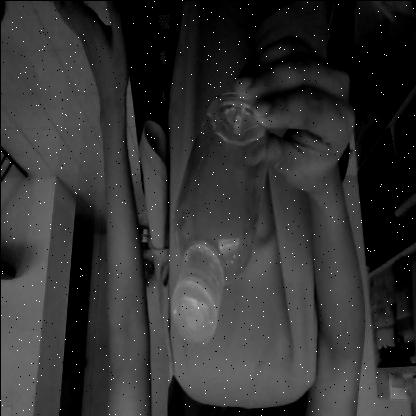Plastic Bottle: (166, 81, 276, 344)
